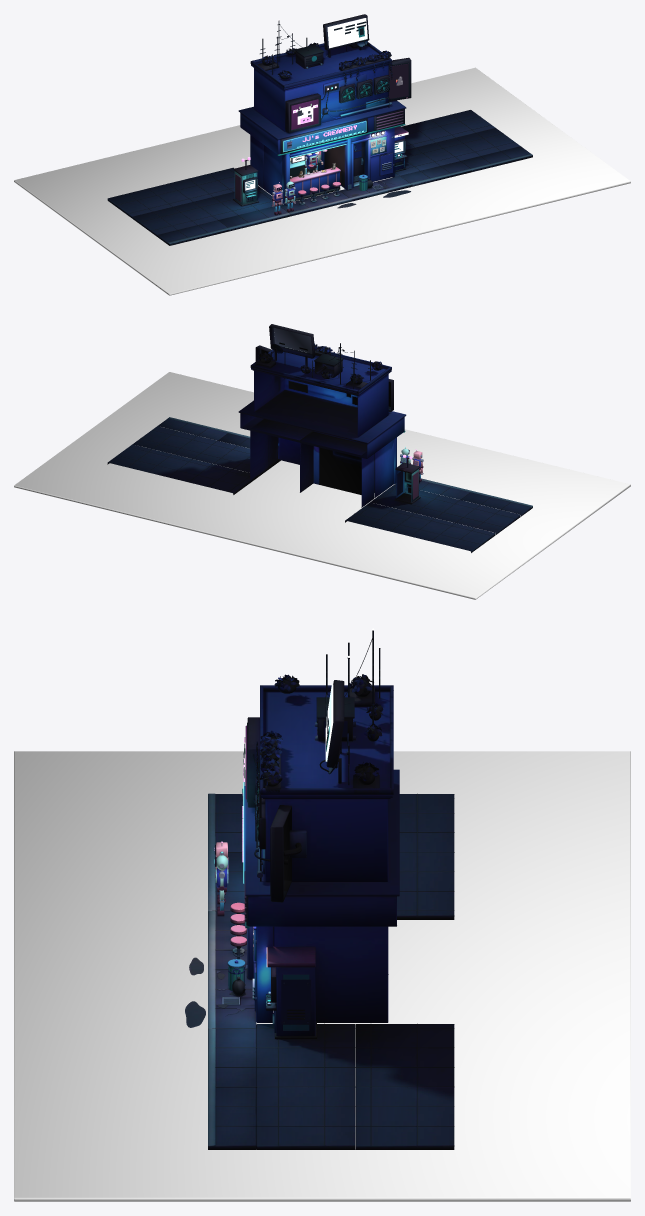
File: creamery.glb
The picture shows the model from 3 angles, top to bottom: view 1: azimuth 30°, elevation 25°; view 2: azimuth 150°, elevation 25°; view 3: azimuth 270°, elevation 25°; orthographic projection. The views are drawn at different scales.
Visible parts, largest first — view 1: ground, street, building_upper, building_lower, hotspot_home_sign, hotspot_credits_monitor, resume_kiosk_detail, shorts_tv_glow_tv_bouldering_poster, hotspot_about_cowscreen; view 2: ground, street, building_upper, building_lower, resume_kiosk_detail; view 3: ground, street, building_upper, building_lower, projects_machine_detail, hotspot_shorts_tv, hotspot_projects_machine.
Part boxes in pixels (x1,y1,x2,y2): ground: (14, 67, 630, 295); street: (107, 110, 532, 245); building_upper: (238, 14, 406, 154); building_lower: (250, 123, 405, 205); hotspot_home_sign: (283, 120, 366, 151); hotspot_credits_monitor: (327, 18, 367, 48); resume_kiosk_detail: (233, 160, 258, 206); shorts_tv_glow_tv_bouldering_poster: (390, 64, 408, 98); hotspot_about_cowscreen: (291, 99, 318, 129); ground: (14, 372, 630, 599); street: (107, 417, 532, 552); building_upper: (238, 324, 406, 458); building_lower: (250, 419, 405, 507); resume_kiosk_detail: (394, 457, 420, 503); ground: (14, 751, 630, 1201); street: (185, 793, 454, 1149); building_upper: (244, 630, 399, 926); building_lower: (230, 902, 388, 1022); projects_machine_detail: (266, 946, 316, 1038); hotspot_shorts_tv: (270, 805, 291, 902); hotspot_projects_machine: (276, 967, 315, 1036).
Size of the model in its own units: 24 by 8.02 by 14.
31 materials, 19 textured.
